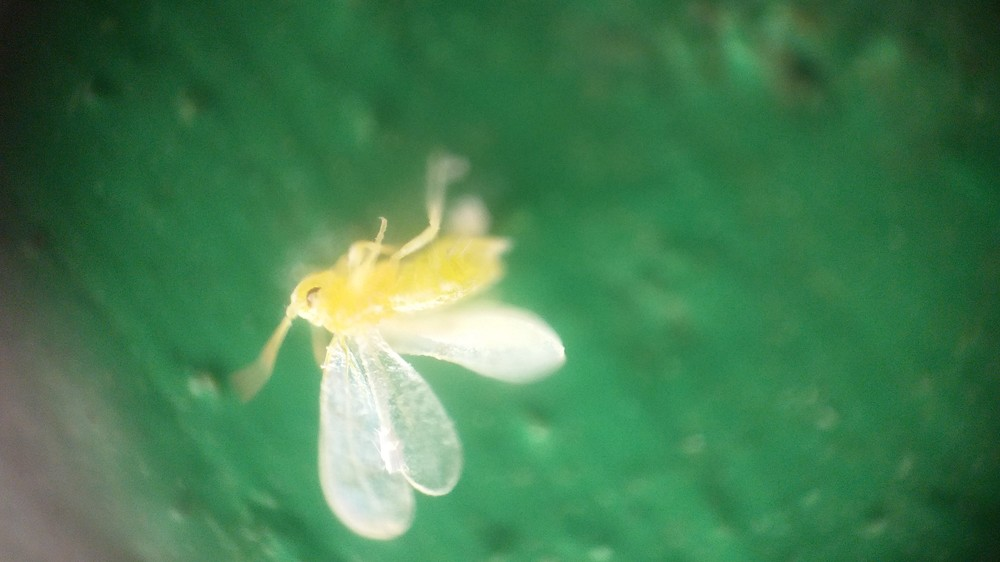Mosca Blanca: (234, 163, 583, 542)
